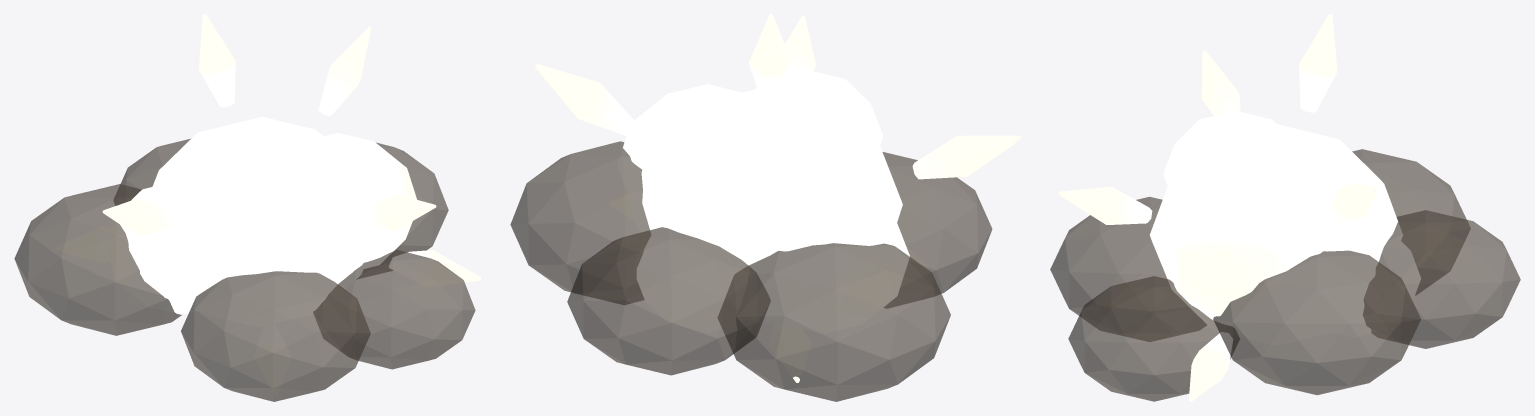
Rendered from rocket-impact.glb.
3 views of the same model, side by side, from view 1: azimuth 30°, elevation 25°; view 2: azimuth 150°, elevation 25°; view 3: azimuth 270°, elevation 25° (orthographic). The views are drawn at different scales.
Visible parts, largest first — view 1: impact-flare, impact-smoke; view 2: impact-flare, impact-smoke; view 3: impact-smoke, impact-flare.
Boxes of the visible parts, x1=… form: impact-flare: x1=55, y1=14, x2=481, y2=394; impact-smoke: x1=14, y1=139, x2=475, y2=401; impact-flare: x1=535, y1=14, x2=1021, y2=382; impact-smoke: x1=510, y1=141, x2=992, y2=401; impact-smoke: x1=1050, y1=149, x2=1520, y2=401; impact-flare: x1=1058, y1=14, x2=1420, y2=401.
Bounding box in the file's own units: 1.03 × 0.7863 × 1.04.
